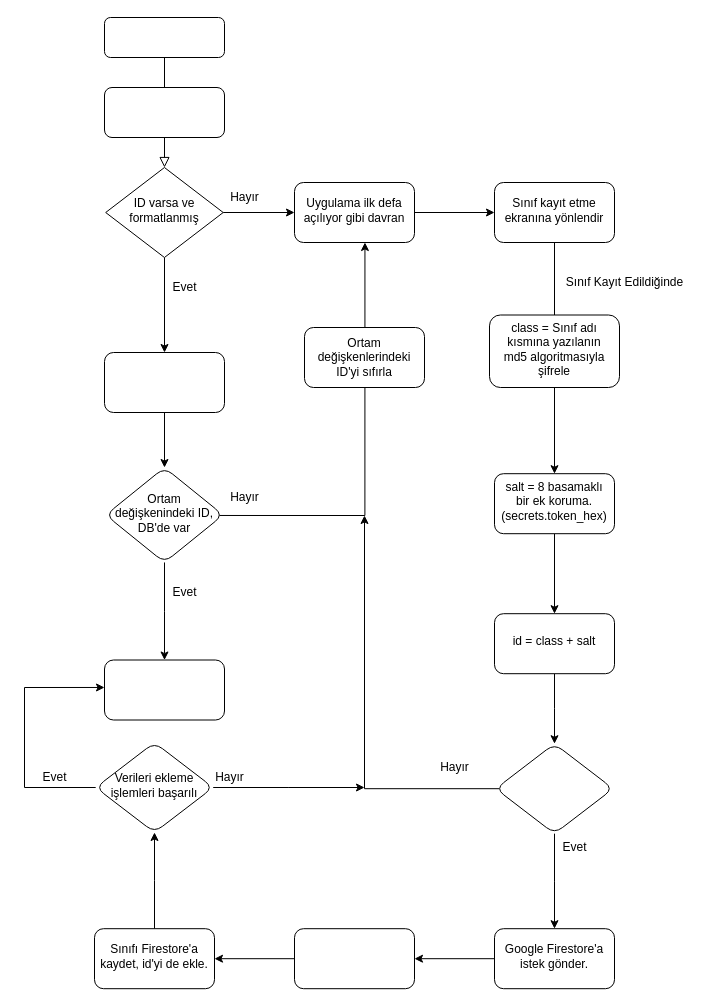
The diagram is 712 pixels wide and 1007 high, and some of its shapes have lost their labels. The centre of each missing label's shape, as x and y in pixels:
Akıllı Tahta Uygulaması Açıldı: [164,37]
Google Firestore Database'e istek gönder: [164,382]
ID = Ortam Değişkenlerinde kayıt ID'si: [164,112]
id başarıyla oluşturuldu: [554,788]
ID'yi ortam değişkenlerine ekle: [354,958]
Sınıf Arayüz Ekranına Yönlendir: [164,689]
